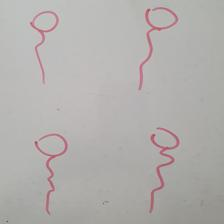location-rna: (138, 5, 179, 93), (35, 132, 69, 217), (149, 127, 181, 213), (31, 11, 60, 84)
